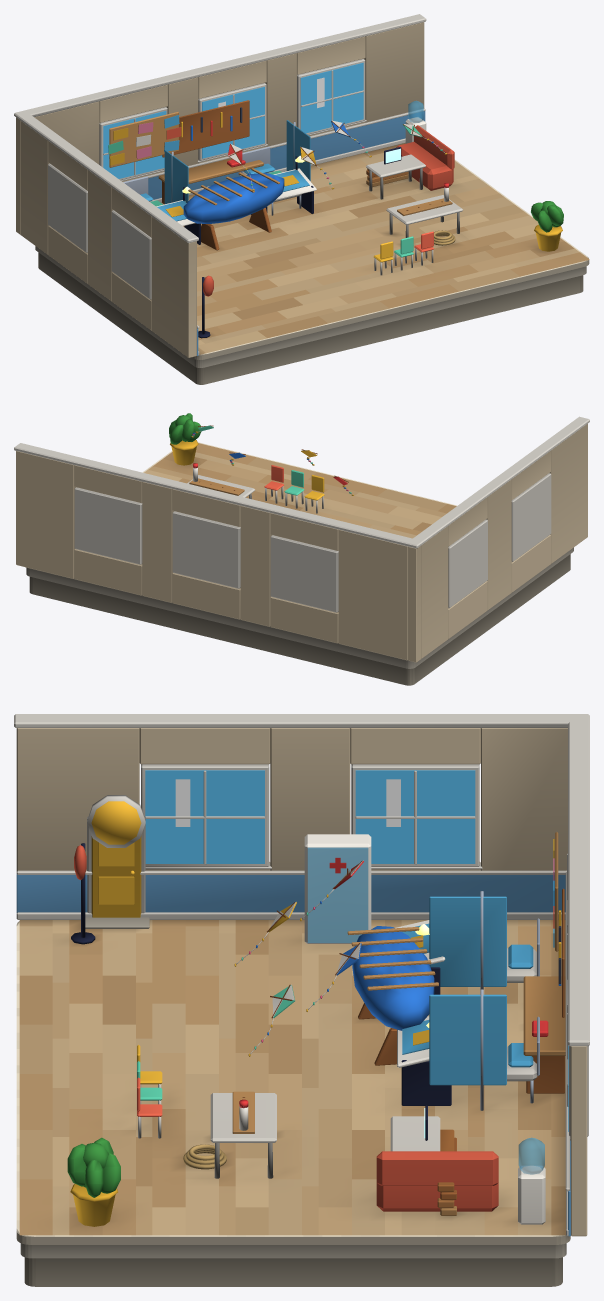
File: workplace.glb
3 renders of one model, top to bottom at view 1: azimuth 30°, elevation 25°; view 2: azimuth 150°, elevation 25°; view 3: azimuth 270°, elevation 25°, orthographic. The views are drawn at different scales.
Visible parts, largest first — view 1: workplace_Satin, workplace_Gloss, Var_studio_Satin, Var_workshop_Satin, Var_clinic_Satin, Var_workshop_Gloss, workplace_Matte, Var_studio_Gloss, Var_clinic_Metal, Var_clinic_Gloss; view 2: workplace_Satin, Var_clinic_Gloss, workplace_Matte, Var_studio_Satin, workplace_Gloss, Var_clinic_Satin; view 3: workplace_Satin, workplace_Gloss, Var_clinic_Satin, Var_studio_Satin, Var_workshop_Satin, Var_clinic_Gloss, workplace_Matte, Var_workshop_Gloss, Var_clinic_Glass, Var_studio_Gloss, Var_clinic_Metal, workplace_Glass.
Boxes of the visible parts, bbox=[...] form: workplace_Satin: bbox=[14, 14, 589, 384]; workplace_Gloss: bbox=[103, 62, 562, 338]; Var_studio_Satin: bbox=[108, 112, 463, 237]; Var_workshop_Satin: bbox=[158, 100, 455, 250]; Var_clinic_Satin: bbox=[140, 120, 433, 275]; Var_workshop_Gloss: bbox=[181, 107, 284, 223]; workplace_Matte: bbox=[192, 159, 589, 359]; Var_studio_Gloss: bbox=[156, 156, 448, 244]; Var_clinic_Metal: bbox=[123, 121, 301, 215]; Var_clinic_Gloss: bbox=[373, 147, 434, 262]; workplace_Satin: bbox=[14, 413, 589, 685]; Var_clinic_Gloss: bbox=[264, 465, 324, 500]; workplace_Matte: bbox=[26, 442, 457, 660]; Var_studio_Satin: bbox=[187, 475, 255, 499]; workplace_Gloss: bbox=[170, 440, 198, 465]; Var_clinic_Satin: bbox=[265, 486, 323, 513]; workplace_Satin: bbox=[14, 714, 589, 1286]; workplace_Gloss: bbox=[70, 770, 568, 1226]; Var_clinic_Satin: bbox=[138, 857, 537, 1151]; Var_studio_Satin: bbox=[210, 832, 558, 1211]; Var_workshop_Satin: bbox=[183, 888, 565, 1215]; Var_clinic_Gloss: bbox=[137, 834, 427, 1140]; workplace_Matte: bbox=[16, 921, 570, 1244]; Var_workshop_Gloss: bbox=[352, 910, 561, 1036]; Var_clinic_Glass: bbox=[307, 847, 368, 942]; Var_studio_Gloss: bbox=[239, 920, 451, 1130]; Var_clinic_Metal: bbox=[480, 891, 539, 1110]; workplace_Glass: bbox=[518, 1137, 544, 1174].
Size of the model in its own units: 14 by 4.98 by 10.4.
